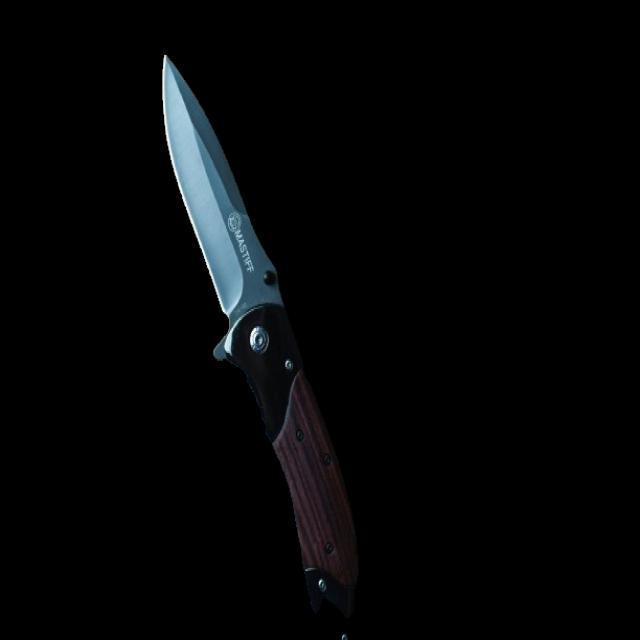knife: (167, 56, 359, 618)
